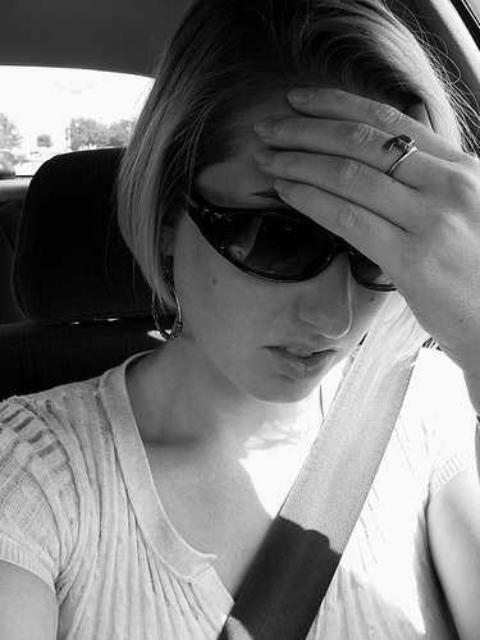Seatbelt: (208, 282, 448, 640)
